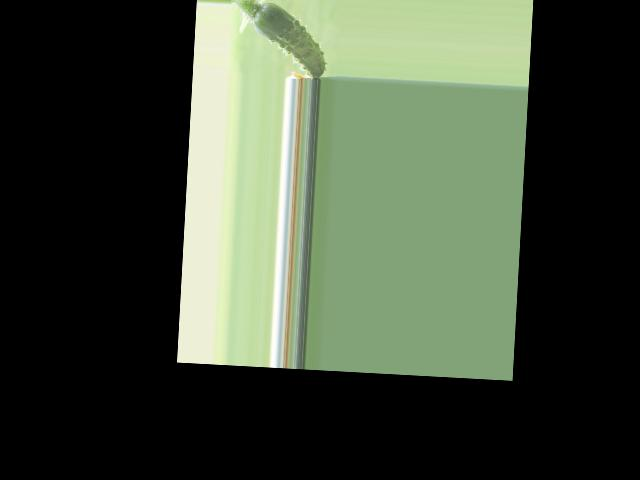cucumber: (251, 0, 329, 78)
